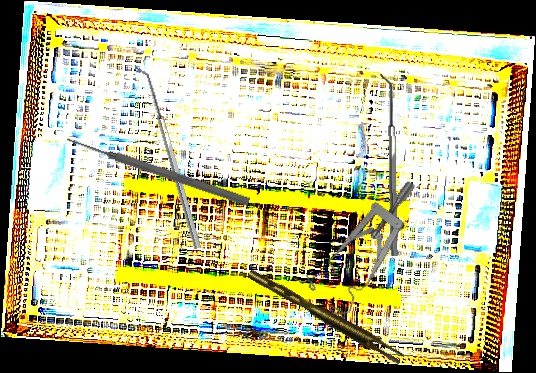Pusher: (65, 133, 251, 208)
Spatula Surgical: (134, 62, 202, 252), (380, 72, 398, 257)
Speculum: (286, 177, 455, 325)
Tissue Forceps: (247, 261, 405, 370)
